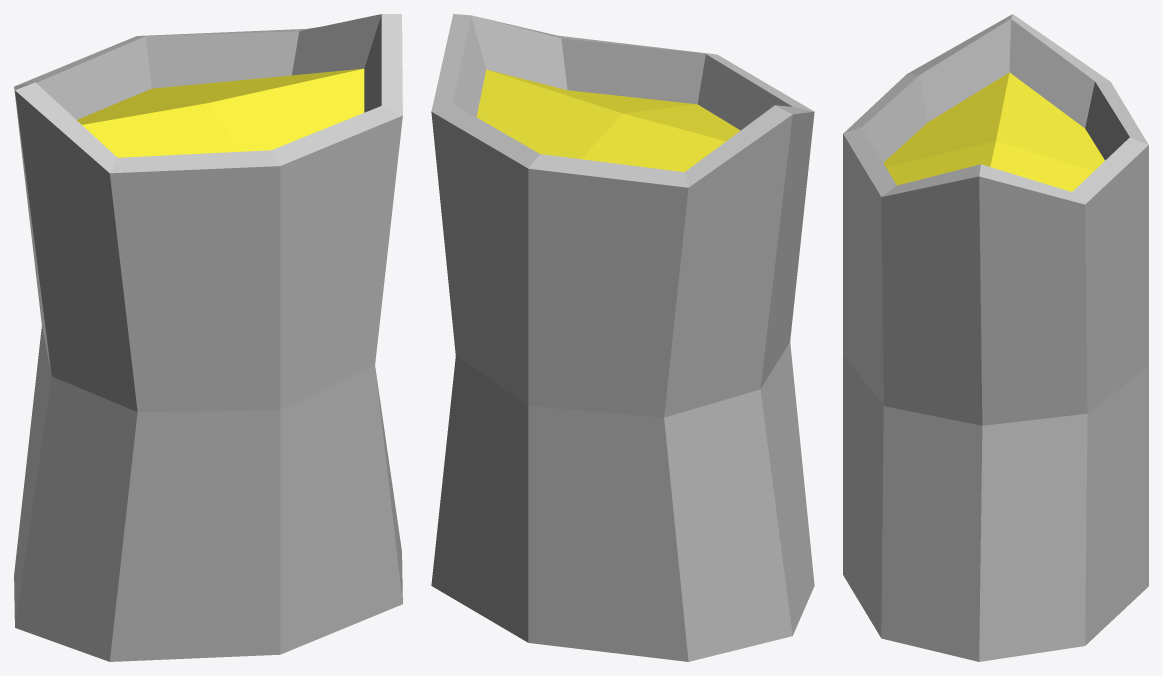
The model's file is Millet Sack 2.fbx.
3 renders of one model, left to right at view 1: azimuth 30°, elevation 25°; view 2: azimuth 150°, elevation 25°; view 3: azimuth 270°, elevation 25°, orthographic. The views are drawn at different scales.
Visible parts, largest first — view 1: Millet_sack_2; view 2: Millet_sack_2; view 3: Millet_sack_2.
Boxes of the visible parts, box(x1,y1,x2,y2) form: Millet_sack_2: box(14, 14, 402, 661); Millet_sack_2: box(431, 14, 814, 661); Millet_sack_2: box(843, 14, 1148, 661).
Bounding box in the file's own units: 0.174 × 0.2444 × 0.1384.
